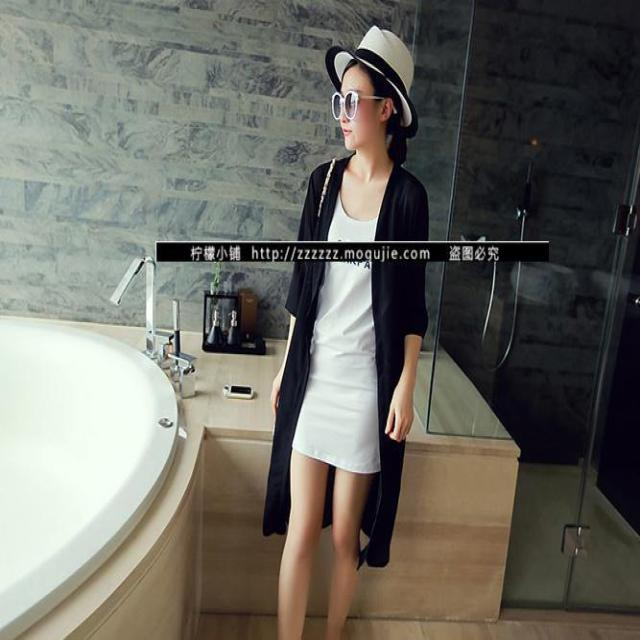long-sleeve-dress: (268, 147, 456, 576)
